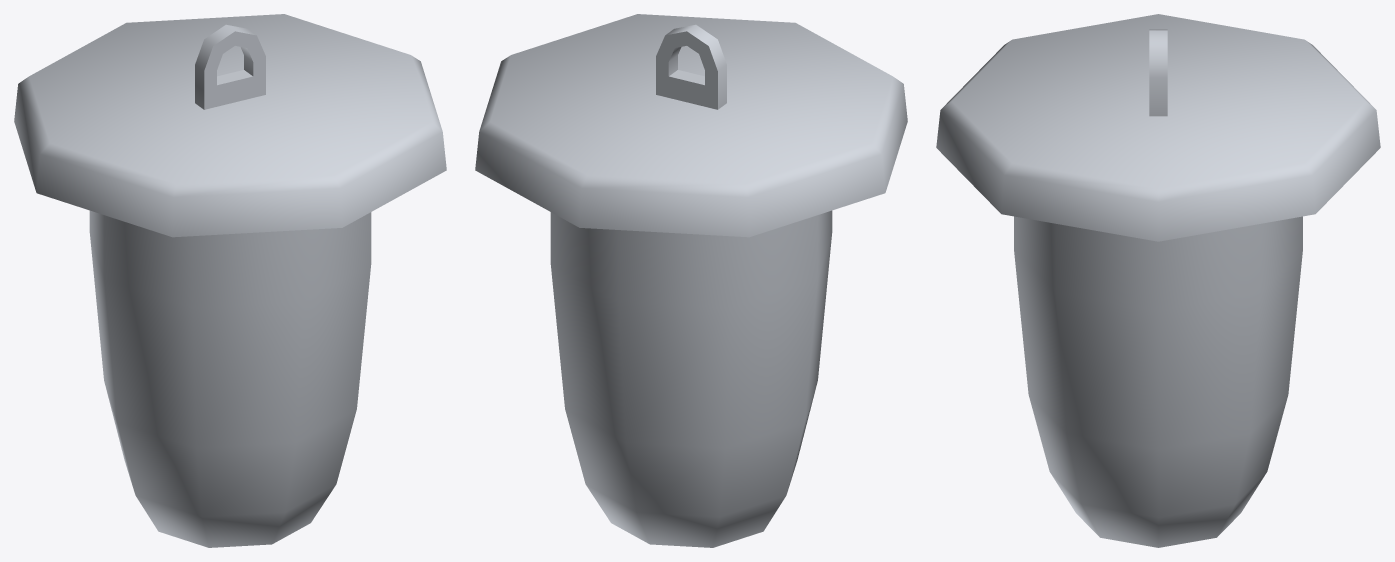
Rendered from heating_equipment_crucible_002.glb.
3 renders of one model, left to right at view 1: azimuth 30°, elevation 25°; view 2: azimuth 150°, elevation 25°; view 3: azimuth 270°, elevation 25°, orthographic.
Parts seen in each view (by area): view 1: heating_equipment_crucible_lid.003, heating_equipment_crucible.002; view 2: heating_equipment_crucible_lid.003, heating_equipment_crucible.002; view 3: heating_equipment_crucible.002, heating_equipment_crucible_lid.003.
Boxes of the visible parts, bbox=[...] form: heating_equipment_crucible_lid.003: bbox=[14, 14, 446, 237]; heating_equipment_crucible.002: bbox=[89, 210, 371, 547]; heating_equipment_crucible_lid.003: bbox=[475, 14, 907, 237]; heating_equipment_crucible.002: bbox=[550, 210, 832, 547]; heating_equipment_crucible.002: bbox=[1014, 216, 1302, 547]; heating_equipment_crucible_lid.003: bbox=[936, 14, 1380, 241].
Bounding box in the file's own units: 21.52 × 25.87 × 21.52.
Materials: 1 (1 with a texture image).
